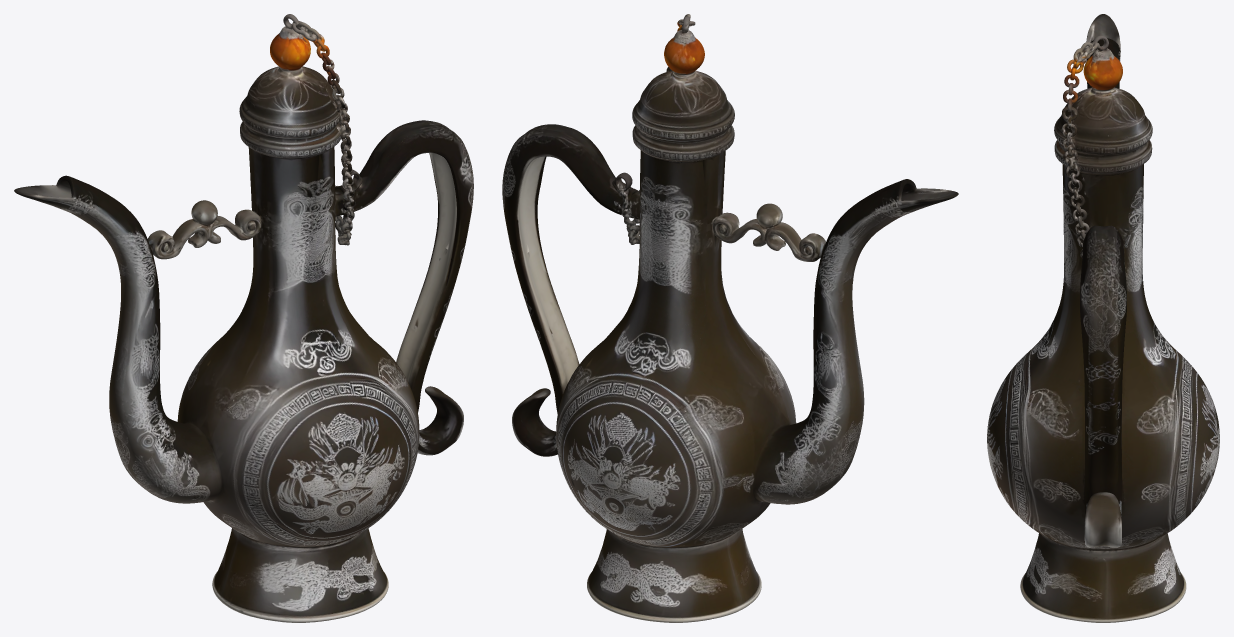
The model's file is ewer-dragon-lite.glb.
3 renders of one model, left to right at view 1: azimuth 30°, elevation 25°; view 2: azimuth 150°, elevation 25°; view 3: azimuth 270°, elevation 25°, orthographic. The views are drawn at different scales.
Parts seen in each view (by area): view 1: node_0; view 2: node_0; view 3: node_0.
Part boxes in pixels (x1=…): node_0: x1=14, y1=14, x2=473, y2=622; node_0: x1=502, y1=14, x2=958, y2=622; node_0: x1=987, y1=14, x2=1219, y2=622.
Size of the model in its own units: 0.8951 by 1.09 by 0.4183.
Materials: 1 (1 with a texture image).
